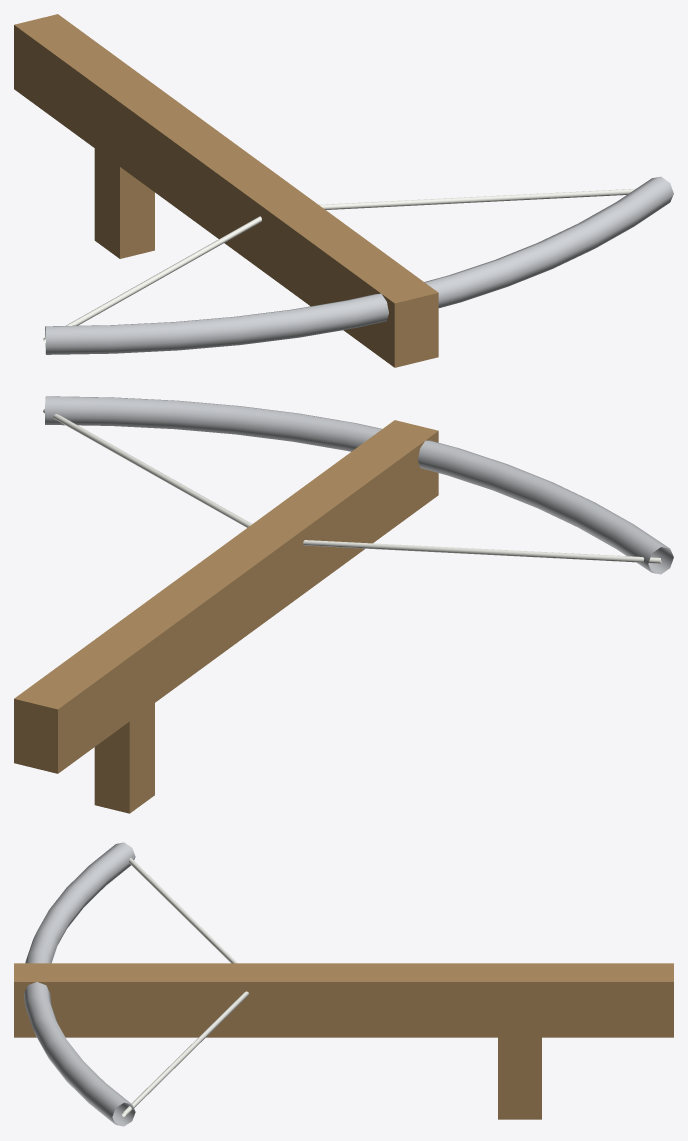
The model's file is crossbow.glb.
3 renders of one model, top to bottom at view 1: azimuth 30°, elevation 25°; view 2: azimuth 150°, elevation 25°; view 3: azimuth 270°, elevation 25°, orthographic. The views are drawn at different scales.
Parts seen in each view (by area): view 1: stock, limbs, grip, string; view 2: stock, limbs, grip, string; view 3: stock, limbs, grip, string.
Boxes of the visible parts, <box> form: stock: <box>14,14,438,367</box>; limbs: <box>45,176,673,354</box>; grip: <box>94,148,154,258</box>; string: <box>43,189,635,343</box>; stock: <box>14,420,438,773</box>; limbs: <box>45,396,673,574</box>; grip: <box>94,703,154,813</box>; string: <box>43,408,661,563</box>; stock: <box>14,963,673,1037</box>; limbs: <box>24,842,135,1126</box>; grip: <box>498,1037,541,1119</box>; string: <box>121,858,248,1116</box>.
Bounding box in the file's own units: 0.7139 × 0.175 × 0.75.
